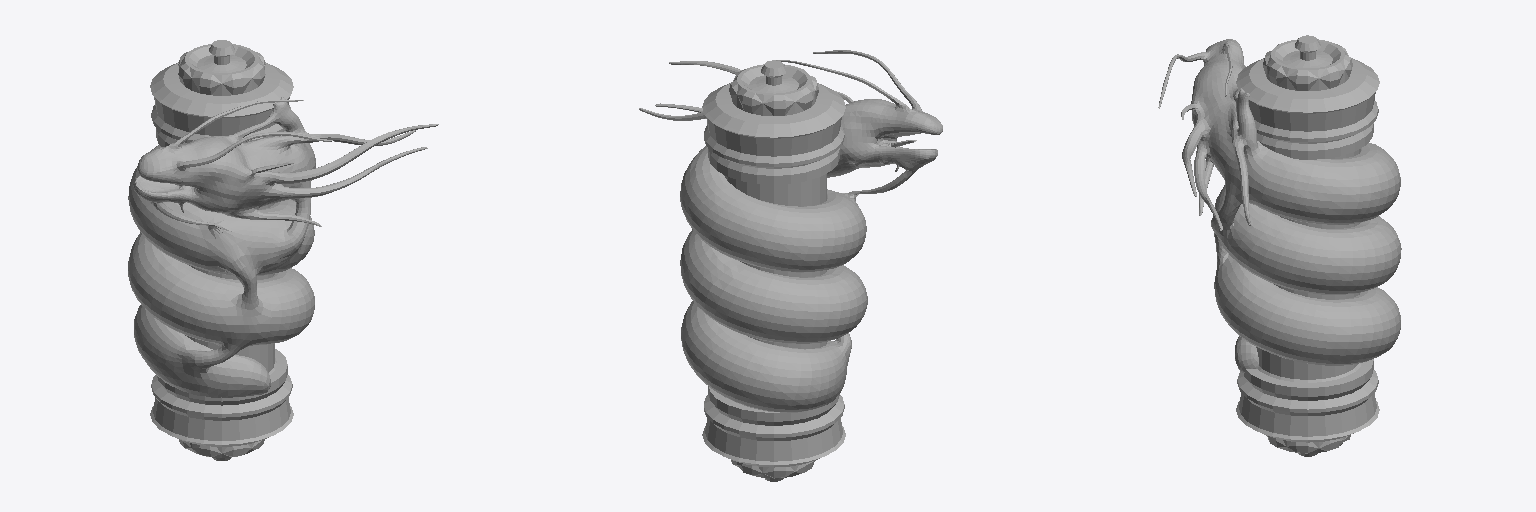
The model's file is Dragon.obj.
3 views of the same model, side by side, from view 1: azimuth 30°, elevation 25°; view 2: azimuth 150°, elevation 25°; view 3: azimuth 270°, elevation 25° (orthographic).
Visible parts, largest first — view 1: Drugon.001_メッシュ; view 2: Drugon.001_メッシュ; view 3: Drugon.001_メッシュ.
Boxes of the visible parts, <box> form: Drugon.001_メッシュ: <box>128,40,438,460</box>; Drugon.001_メッシュ: <box>639,50,942,481</box>; Drugon.001_メッシュ: <box>1158,35,1401,456</box>.
Size of the model in its own units: 1.2 by 1.65 by 0.8775.